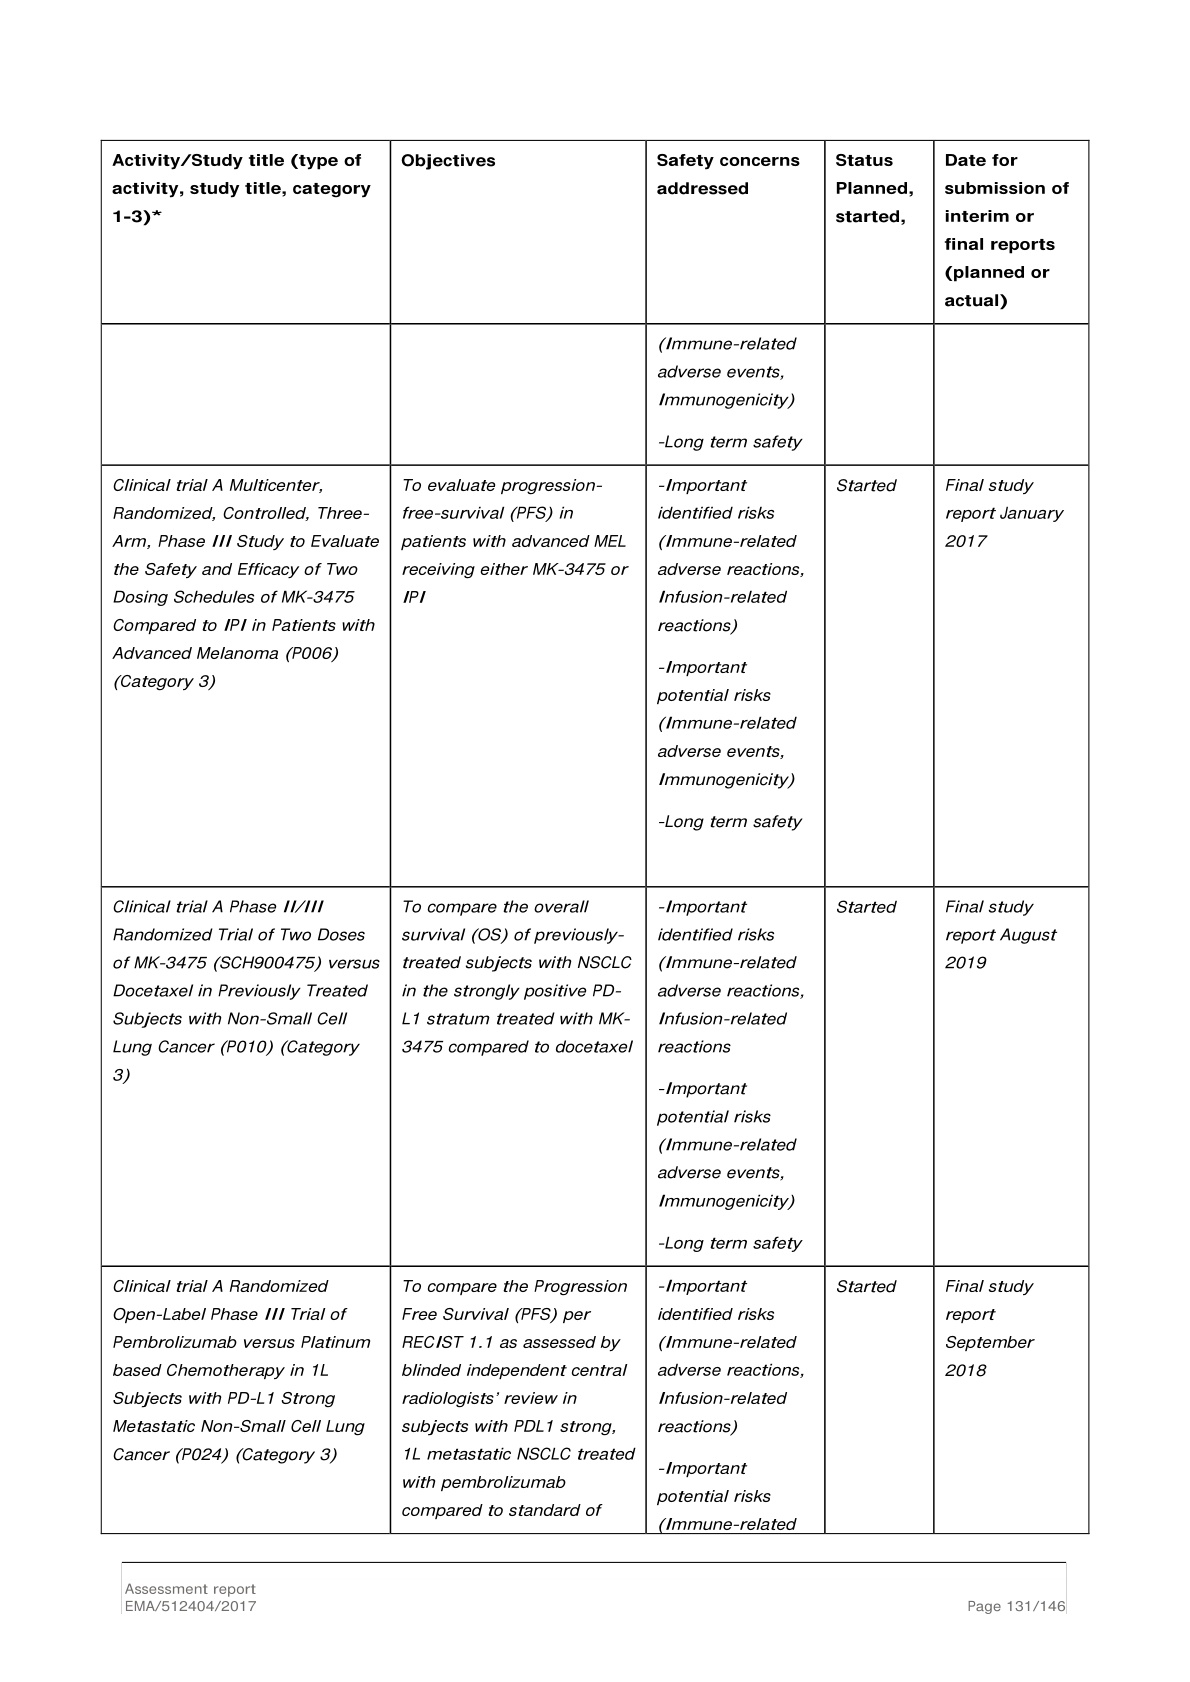full_lined: (100, 138, 1091, 1536)
